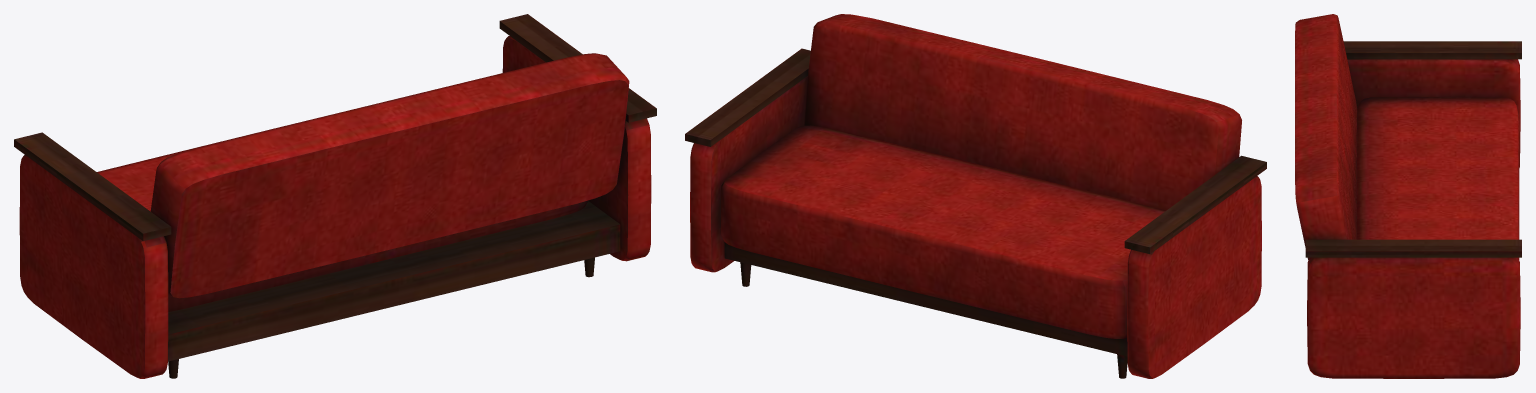
Rendered from sofa_book_red_lod1_web.glb.
The picture shows the model from 3 angles, left to right: view 1: azimuth 30°, elevation 25°; view 2: azimuth 150°, elevation 25°; view 3: azimuth 270°, elevation 25°; orthographic projection. The views are drawn at different scales.
Visible parts, largest first — view 1: SofaBookRed_Body; view 2: SofaBookRed_Body; view 3: SofaBookRed_Body.
Part boxes in pixels (x1,y1,x2,y2): SofaBookRed_Body: [14, 14, 656, 378]; SofaBookRed_Body: [685, 14, 1266, 378]; SofaBookRed_Body: [1295, 14, 1521, 378].
Size of the model in its own units: 2 by 0.8338 by 0.9131.
1 material, 1 textured.
